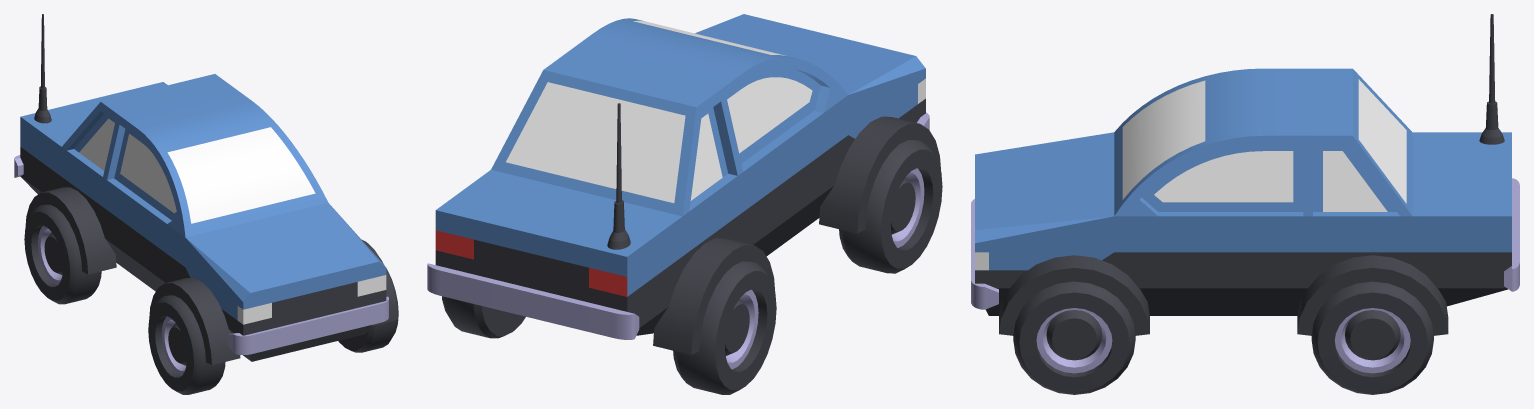
The model's file is Car2.fbx.
3 renders of one model, left to right at view 1: azimuth 30°, elevation 25°; view 2: azimuth 150°, elevation 25°; view 3: azimuth 270°, elevation 25°, orthographic. The views are drawn at different scales.
Parts seen in each view (by area): view 1: body_topRound, body_frontLarge, wheel_classic (×3), wheel_coverStandard (×3), body_backSolid, body_standard, body_topBackStandard, bumper, detail_antenna; view 2: body_backSolid, body_topBackStandard, wheel_classic (×3), body_topRound, wheel_coverStandard (×2), body_standard, body_frontLarge, bumper, detail_antenna; view 3: body_topRound, wheel_classic (×2), body_backSolid, body_standard, body_frontLarge, body_topBackStandard, wheel_coverStandard (×2), bumper (×2), detail_antenna.
Part boxes in pixels (left/top/right/bottom): body_topRound: left=103, top=86, right=328, bottom=237; body_frontLarge: left=185, top=202, right=386, bottom=361; wheel_classic (×3): left=24, top=204, right=398, bottom=394; wheel_coverStandard (×3): left=25, top=187, right=397, bottom=364; body_backSolid: left=20, top=82, right=167, bottom=262; body_standard: left=103, top=177, right=185, bottom=291; body_topBackStandard: left=62, top=74, right=231, bottom=170; bumper: left=227, top=296, right=388, bottom=355; detail_antenna: left=34, top=14, right=51, bottom=123; body_backSolid: left=435, top=170, right=737, bottom=335; body_topBackStandard: left=491, top=53, right=727, bottom=216; wheel_classic (×3): left=442, top=140, right=942, bottom=394; body_topRound: left=566, top=18, right=847, bottom=175; wheel_coverStandard (×2): left=653, top=116, right=941, bottom=354; body_standard: left=737, top=95, right=848, bottom=256; body_frontLarge: left=695, top=14, right=925, bottom=149; bumper: left=427, top=263, right=639, bottom=339; detail_antenna: left=607, top=103, right=630, bottom=249; body_topRound: left=1114, top=68, right=1312, bottom=216; wheel_classic (×2): left=1013, top=281, right=1433, bottom=394; body_backSolid: left=1313, top=132, right=1511, bottom=306; body_standard: left=1114, top=212, right=1312, bottom=315; body_frontLarge: left=975, top=132, right=1114, bottom=315; body_topBackStandard: left=1313, top=68, right=1412, bottom=216; wheel_coverStandard (×2): left=999, top=255, right=1448, bottom=335; bumper (×2): left=971, top=178, right=1519, bottom=309; detail_antenna: left=1479, top=14, right=1504, bottom=144.
Bounding box in the file's own units: 14.33 × 16.08 × 27.6.
